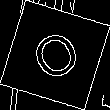O_SE: (24, 22, 86, 88)
